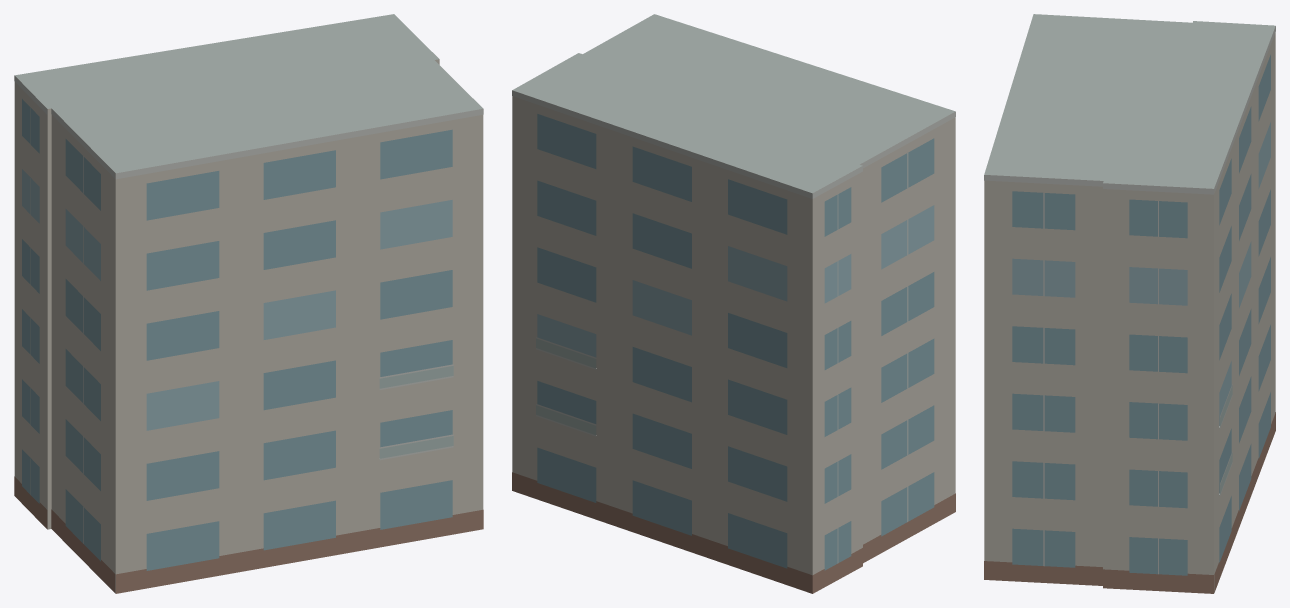
File: survey-upis-32499248.glb
3 views of the same model, side by side, from view 1: azimuth 30°, elevation 25°; view 2: azimuth 150°, elevation 25°; view 3: azimuth 270°, elevation 25° (orthographic). The views are drawn at different scales.
Visible parts, largest first — view 1: survey-upis-32499248.tmp; view 2: survey-upis-32499248.tmp; view 3: survey-upis-32499248.tmp.
Part boxes in pixels (x1,y1,x2,y2): survey-upis-32499248.tmp: (14, 14, 483, 593); survey-upis-32499248.tmp: (512, 14, 955, 593); survey-upis-32499248.tmp: (984, 14, 1275, 593).
Size of the model in its own units: 15.84 by 17.1 by 11.17.
